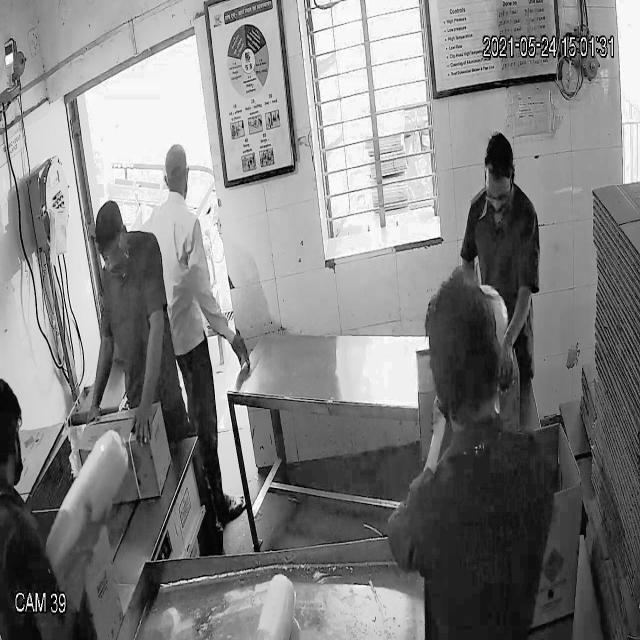glasses: (482, 182, 516, 214)
